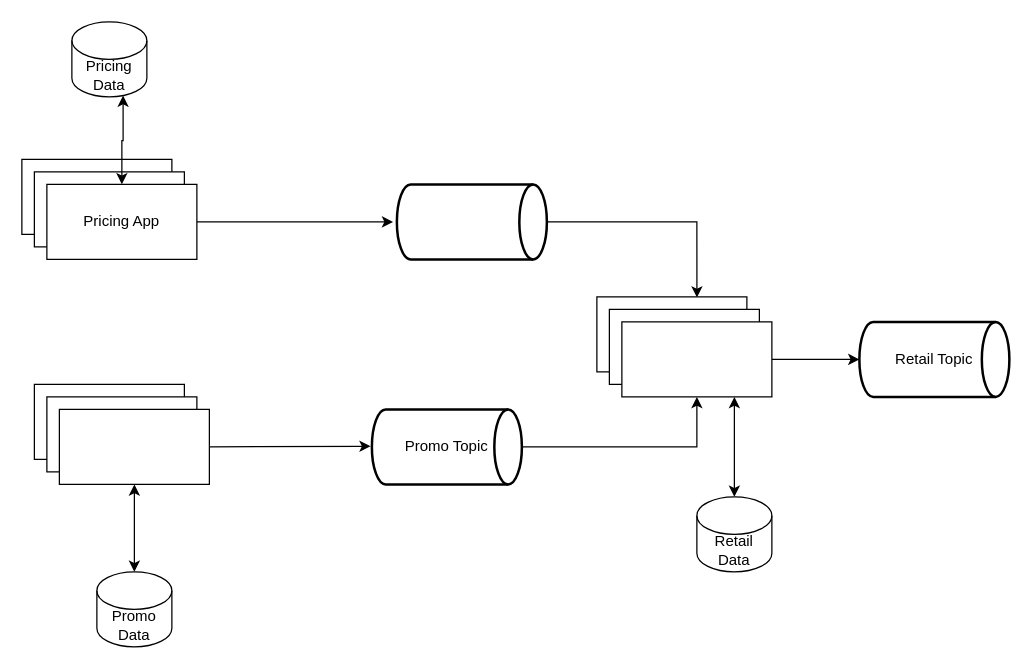
This 1033x669 diagram has some shape labels left out. The centre of each missing label's shape, as x and y in pixels:
"Pricing Topic" goes at point (471, 221).
"Promo App" goes at point (133, 446).
"Retail App" goes at point (696, 359).
